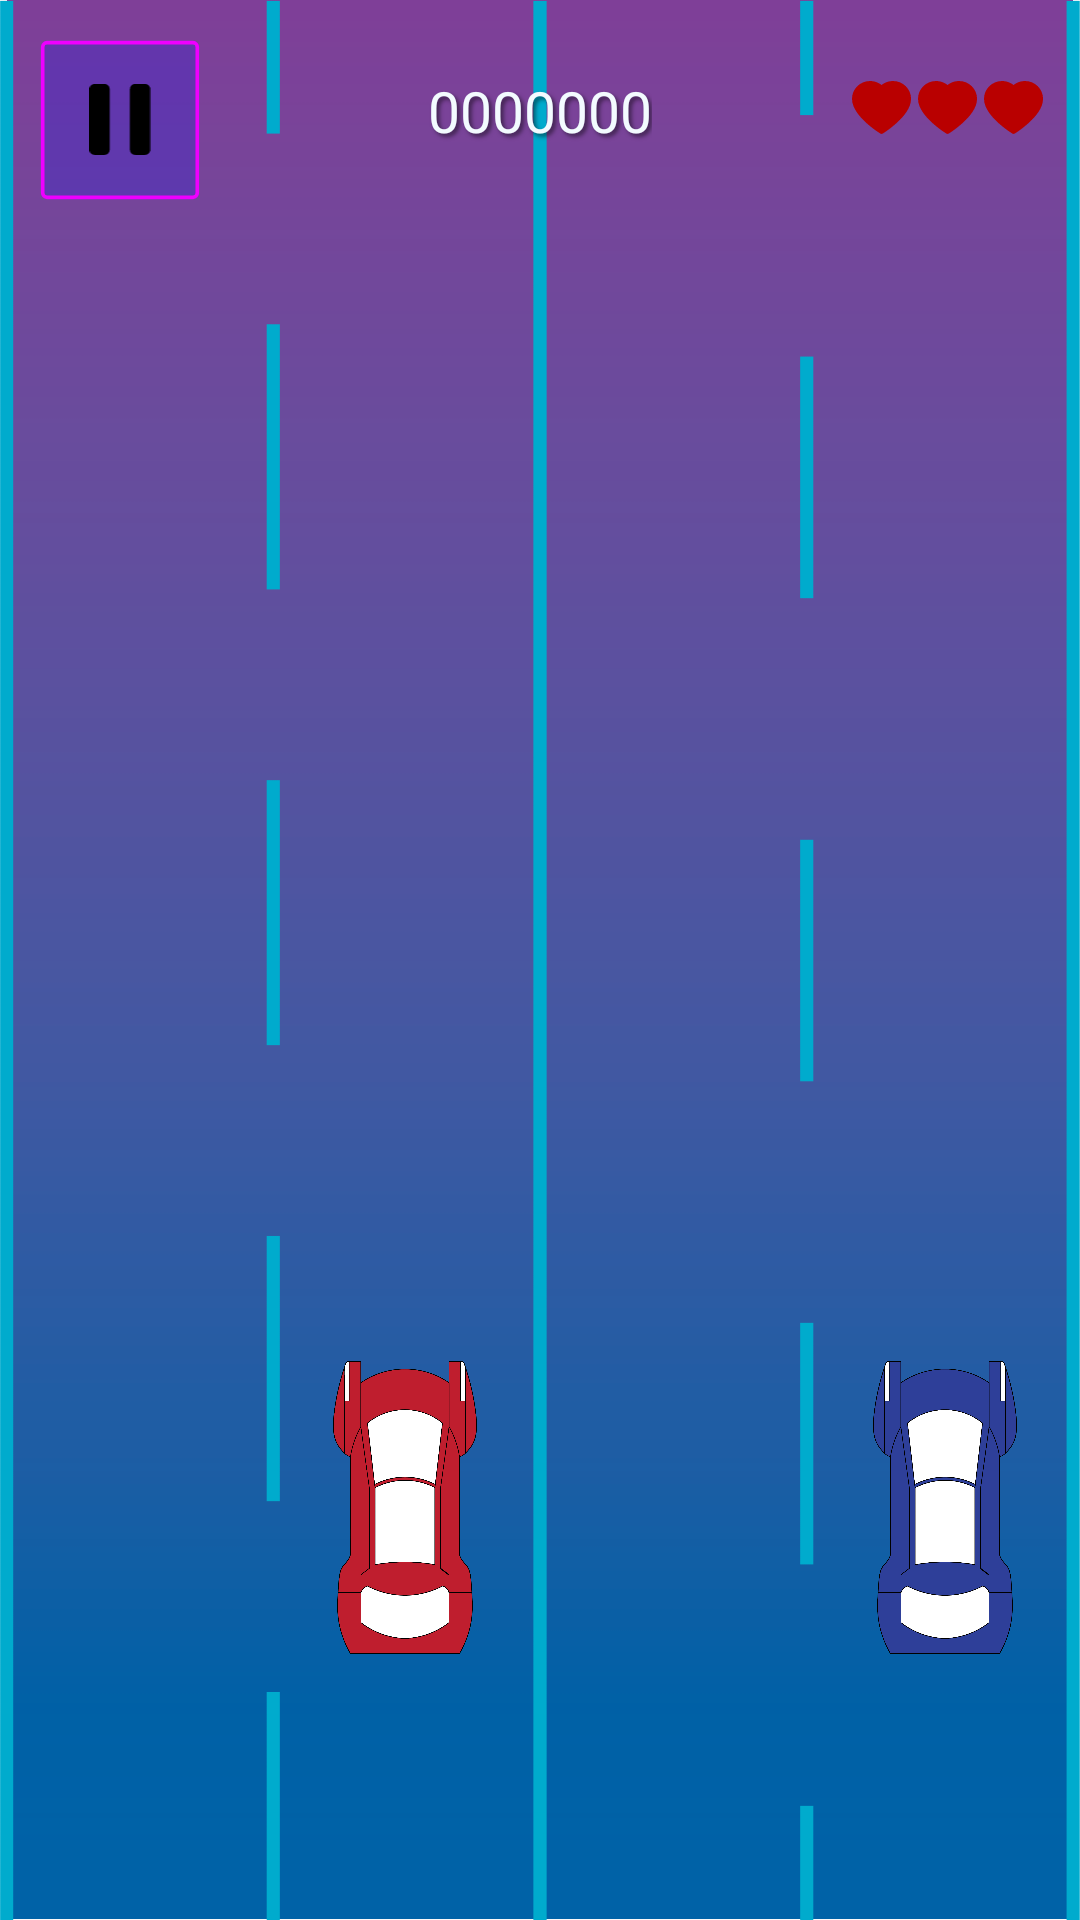

Screen size 1080 x 1920. Icon name, then its box in pixels as (x1, y1, x2, y2):
car: (333, 1361, 477, 1656), (873, 1361, 1017, 1656)
heart: (852, 81, 911, 134), (918, 81, 977, 134), (984, 81, 1043, 134)
Pause: (41, 40, 199, 200)
